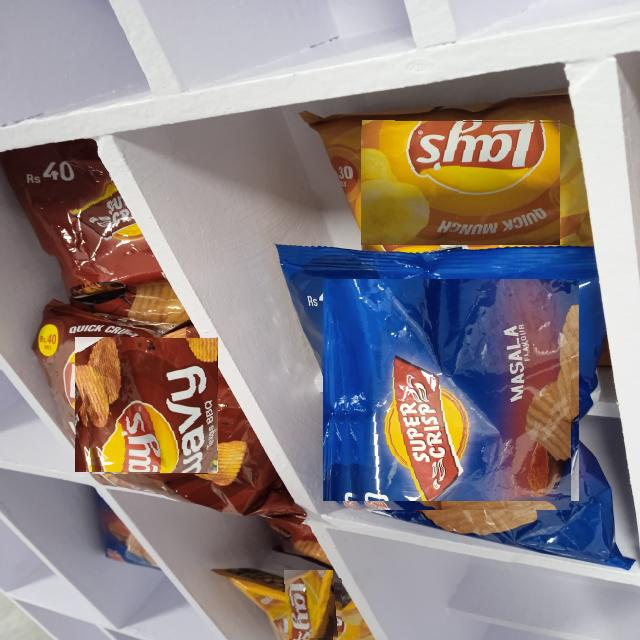Plastic: (332, 270, 571, 510), (361, 119, 560, 245), (77, 335, 217, 474), (51, 172, 112, 274), (274, 578, 342, 640)
